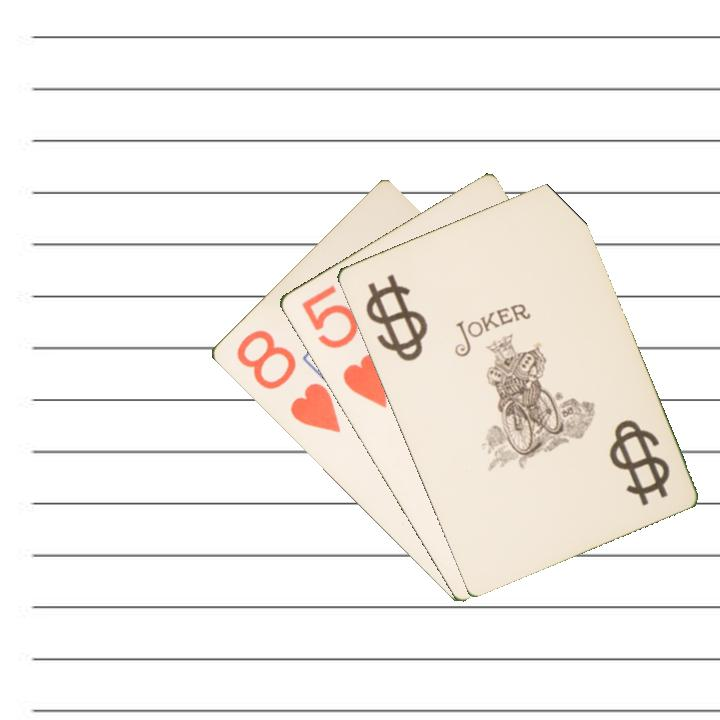5h: (297, 280, 390, 411)
8h: (231, 326, 343, 437)
JK: (609, 415, 673, 509), (367, 287, 420, 358)
